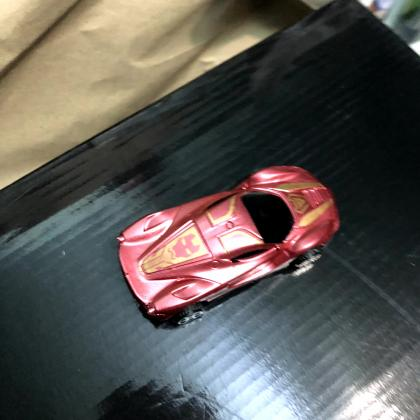Car: (113, 165, 342, 333)
